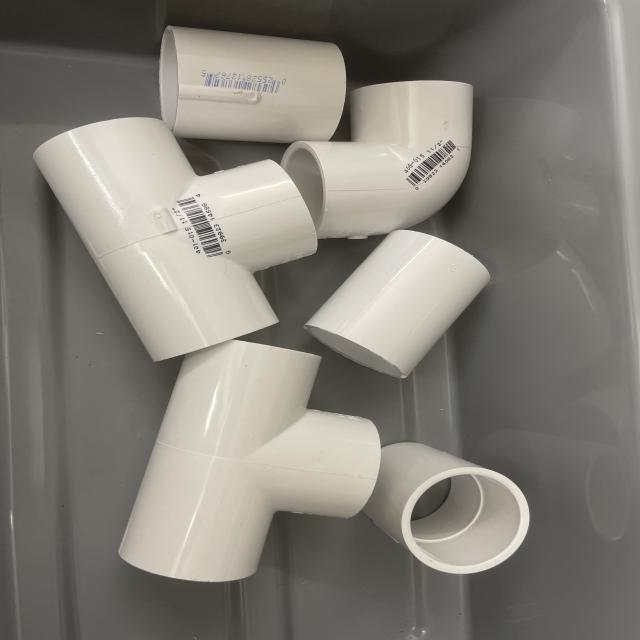L Joint: (280, 83, 472, 240)
T Joint: (31, 118, 318, 365), (117, 341, 385, 586)
